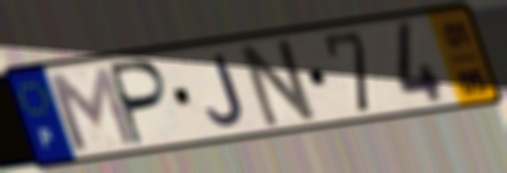4: (393, 18, 447, 108)
7: (319, 29, 372, 115)
J: (203, 51, 247, 129)
M: (42, 63, 141, 154)
N: (237, 34, 323, 131)
P: (108, 57, 173, 150)
